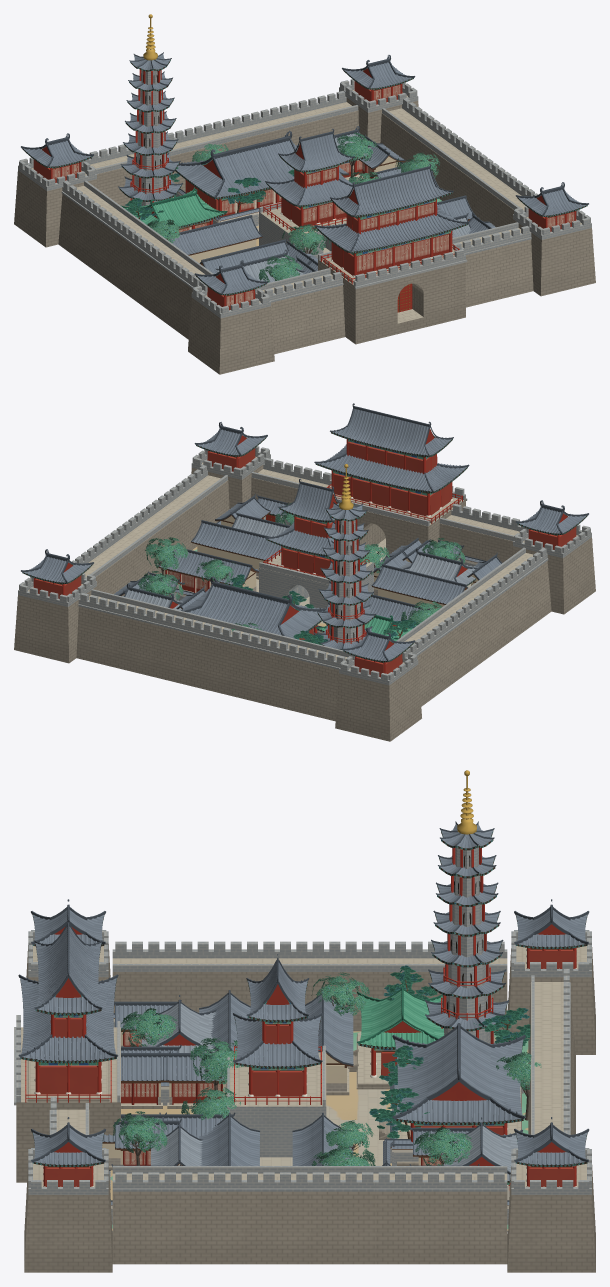
File: City_2.glb
The picture shows the model from 3 angles, top to bottom: view 1: azimuth 30°, elevation 25°; view 2: azimuth 150°, elevation 25°; view 3: azimuth 270°, elevation 25°; orthographic projection. The views are drawn at different scales.
Parts seen in each view (by area): view 1: City_2; view 2: City_2; view 3: City_2.
Boxes of the visible parts, box(x1,y1,x2,y2) form: City_2: box(14, 14, 595, 374); City_2: box(14, 403, 595, 741); City_2: box(14, 770, 595, 1272).
Bounding box in the file's own units: 75 × 42.23 × 72.27.
Materials: 6 (6 with a texture image).
